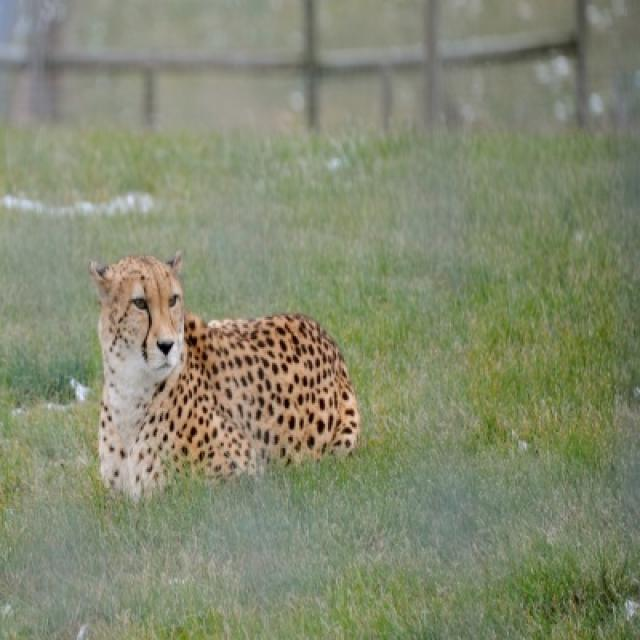Cheetah: (91, 254, 357, 498)
